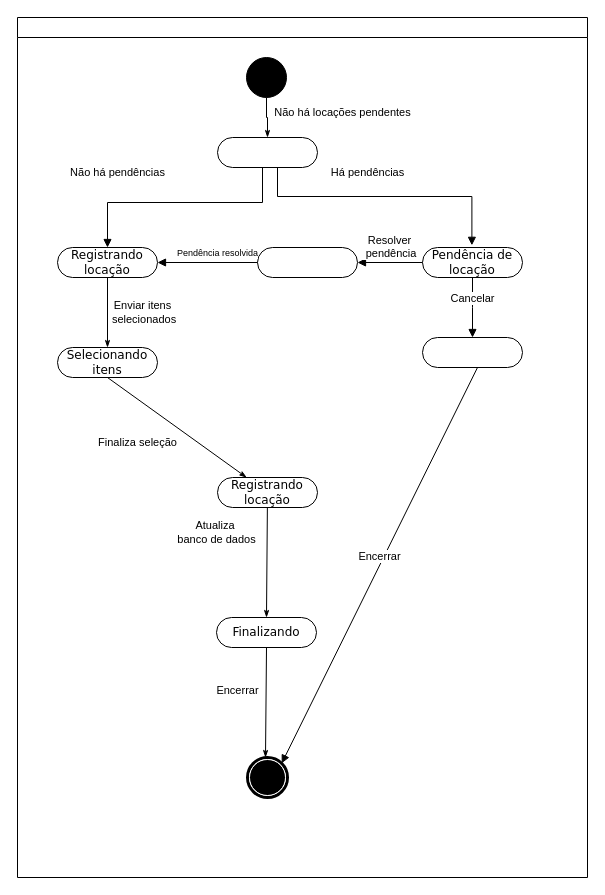
The diagram is 605 pixels wide and 895 high, and some of its shapes have lost their labels. Here are the shapes that lost their labels. From the top down, the centre of each, then its label:
the point at 267,152: Verificando pendências
the point at 307,262: Resolvendo pendência
the point at 472,352: Cancelando operação
